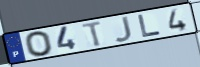4: (57, 25, 81, 53), (168, 7, 189, 31)
J: (113, 15, 134, 44)
L: (137, 13, 163, 39)
O: (24, 30, 55, 58)
T: (81, 19, 104, 48)
